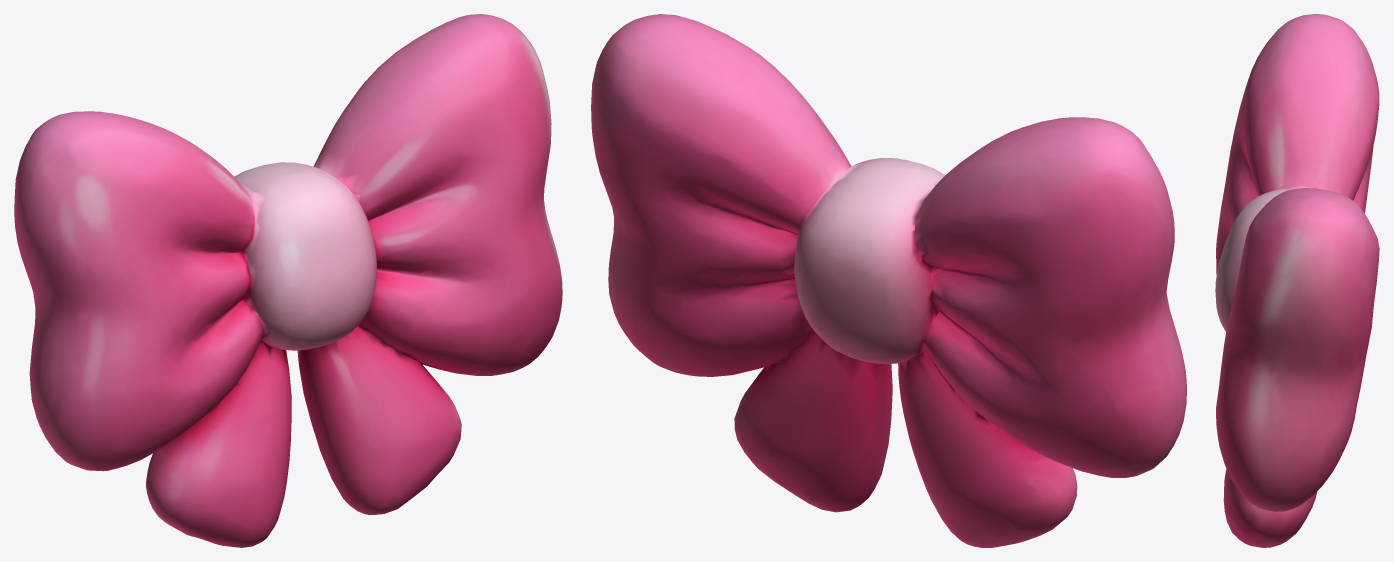
The model's file is hat-bow.glb.
3 renders of one model, left to right at view 1: azimuth 30°, elevation 25°; view 2: azimuth 150°, elevation 25°; view 3: azimuth 270°, elevation 25°, orthographic. The views are drawn at different scales.
Visible parts, largest first — view 1: tripo_node_feafb90c-cc83-4d73-903a-acb92d52f744; view 2: tripo_node_feafb90c-cc83-4d73-903a-acb92d52f744; view 3: tripo_node_feafb90c-cc83-4d73-903a-acb92d52f744.
Part boxes in pixels (<box>): tripo_node_feafb90c-cc83-4d73-903a-acb92d52f744: <box>14,14,562,547</box>; tripo_node_feafb90c-cc83-4d73-903a-acb92d52f744: <box>591,14,1186,547</box>; tripo_node_feafb90c-cc83-4d73-903a-acb92d52f744: <box>1215,14,1379,547</box>.
Size of the model in its own units: 1 by 0.8039 by 0.2966.
Materials: 1 (1 with a texture image).
